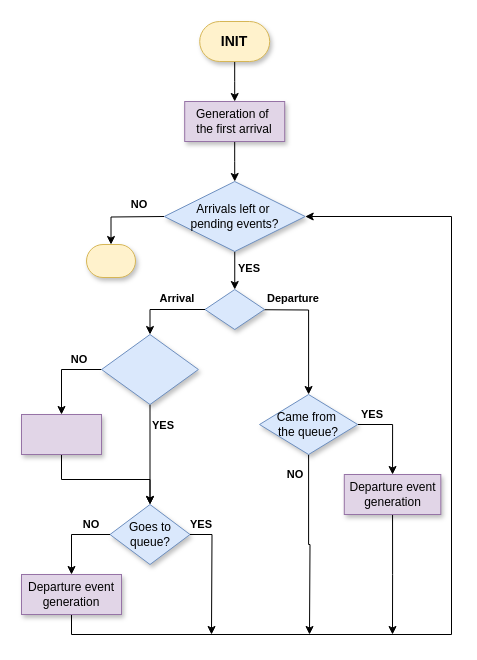
Some shapes in this 477 by 660 pixel diagram are drawn without their labels. Here are the shapes that lost their labels. From the top down, the centre of each, then its label:
point (112, 262): END
point (235, 310): Type
point (150, 371): Arrivals limit reached?
point (62, 436): Arrival event generation
